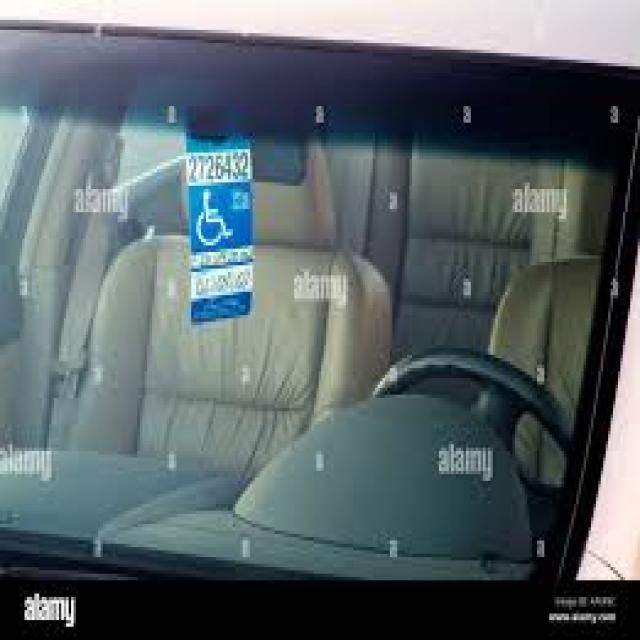car-handicap-placard: (196, 191, 235, 248)
